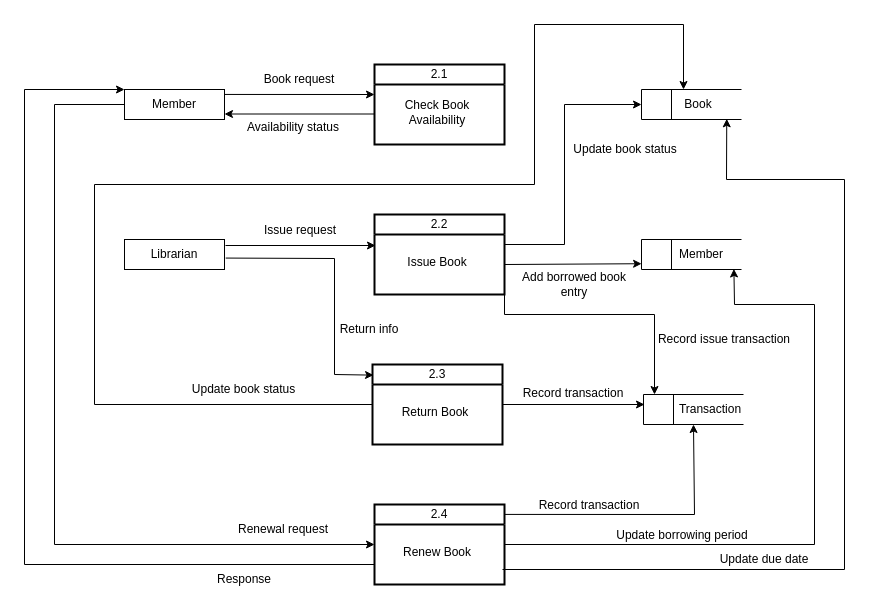
Some shapes in this 870 by 612 pixel diagram are drawn without their labels. Each missing label, with the box of its shape:
D1: (640, 88, 742, 120)
D2: (640, 238, 742, 270)
D3: (642, 394, 744, 424)
